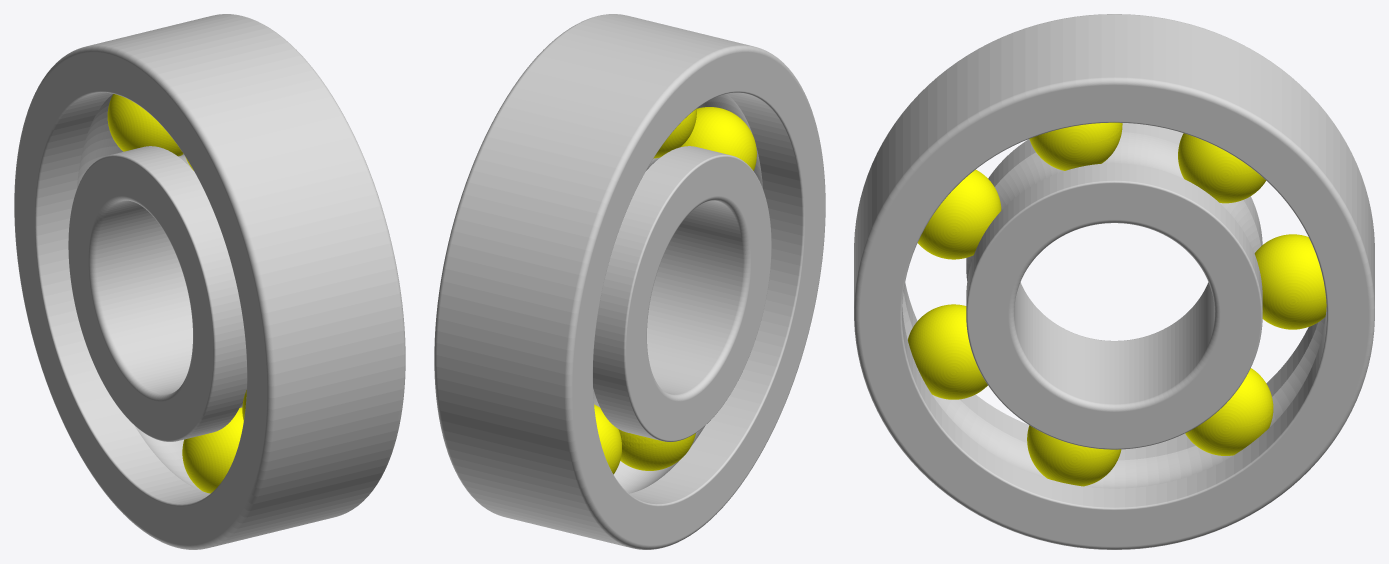
The model's file is model_web.glb.
3 renders of one model, left to right at view 1: azimuth 30°, elevation 25°; view 2: azimuth 150°, elevation 25°; view 3: azimuth 270°, elevation 25°, orthographic.
Parts seen in each view (by area): view 1: Node1, Node2; view 2: Node1, Node2; view 3: Node1, Node2.
Part boxes in pixels (x1,y1,x2,y2): Node1: (14, 14, 405, 549); Node2: (107, 94, 246, 493); Node1: (434, 14, 825, 549); Node2: (594, 107, 756, 474); Node1: (854, 14, 1374, 549); Node2: (908, 122, 1326, 486).
Size of the model in its own units: 8 by 26 by 25.99.
